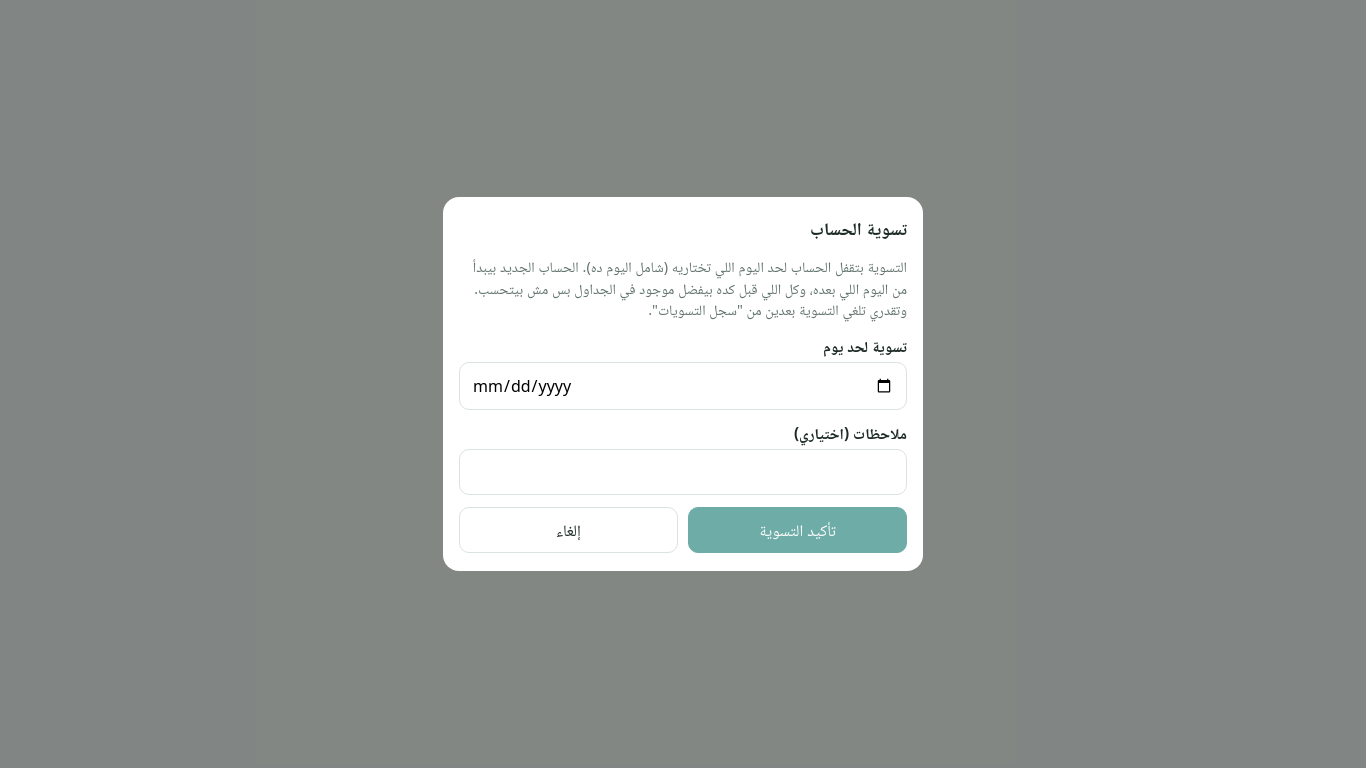
Test: SettlementModal › previews what would be settled up to the chosen day (inclusive)
In the date field labelled "تسوية لحد يوم": (683,386) x1=459 y1=362 x2=907 y2=410, type "2026-07-05"
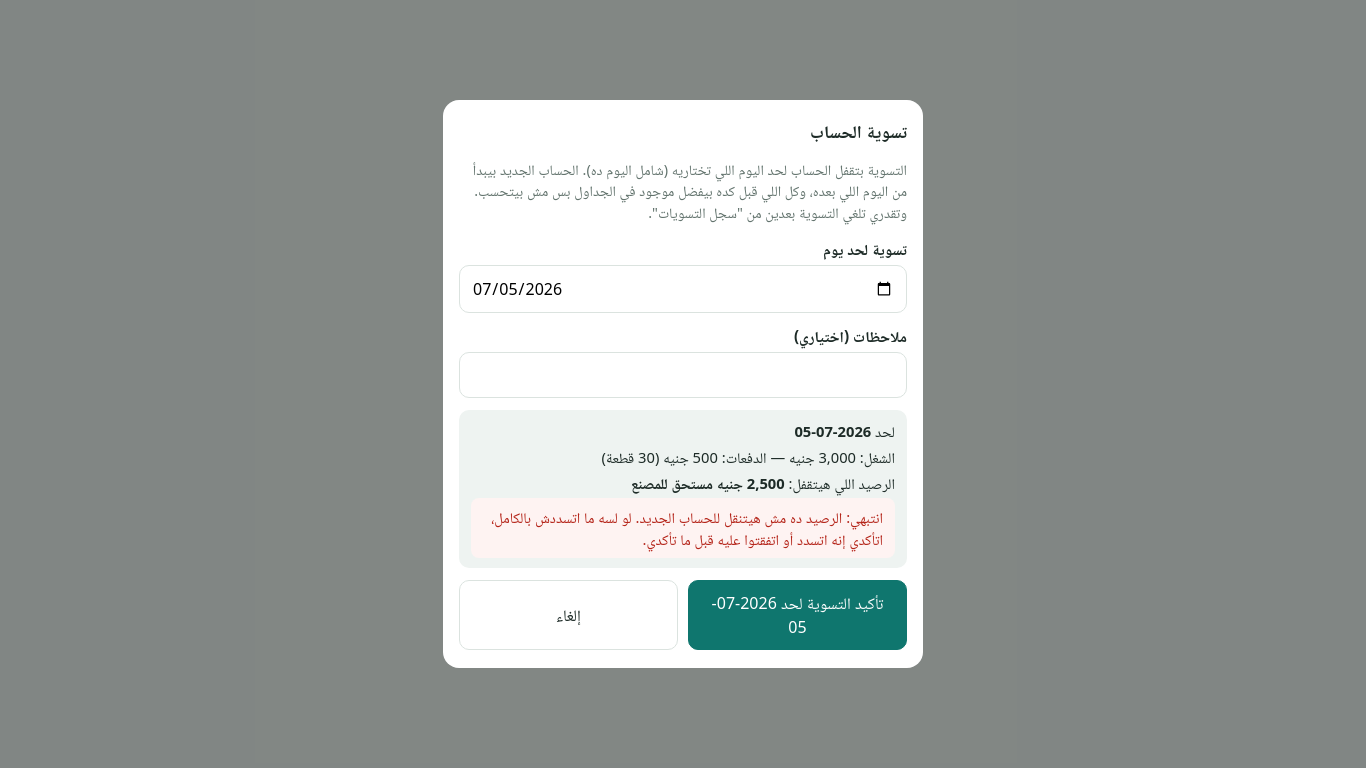
Now the text "الشغل: 3,000 جنيه — الدفعات: 500 جنيه (30 قطعة)" is shown, box x1=601 y1=447 x2=895 y2=467
Now the text "2,500 جنيه مستحق للمصنع" is shown, box x1=631 y1=473 x2=785 y2=493
Now the button "تأكيد التسوية لحد 2026-07-05" is enabled, box x1=688 y1=580 x2=907 y2=650
